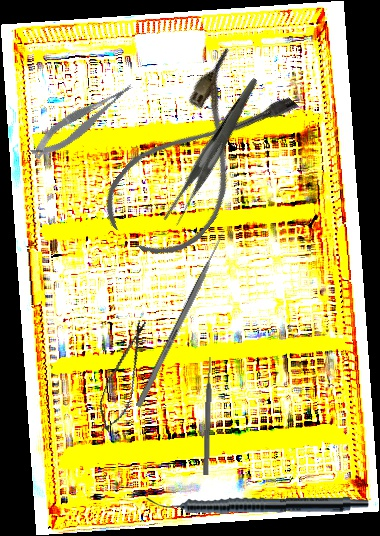Cannula: (91, 45, 304, 274)
Dressing Forceps: (132, 77, 295, 230)
Handpiece: (145, 492, 370, 516)
Micro Scissor: (24, 79, 142, 164), (92, 316, 155, 436)
Pusher: (135, 224, 230, 409), (201, 356, 215, 476)
